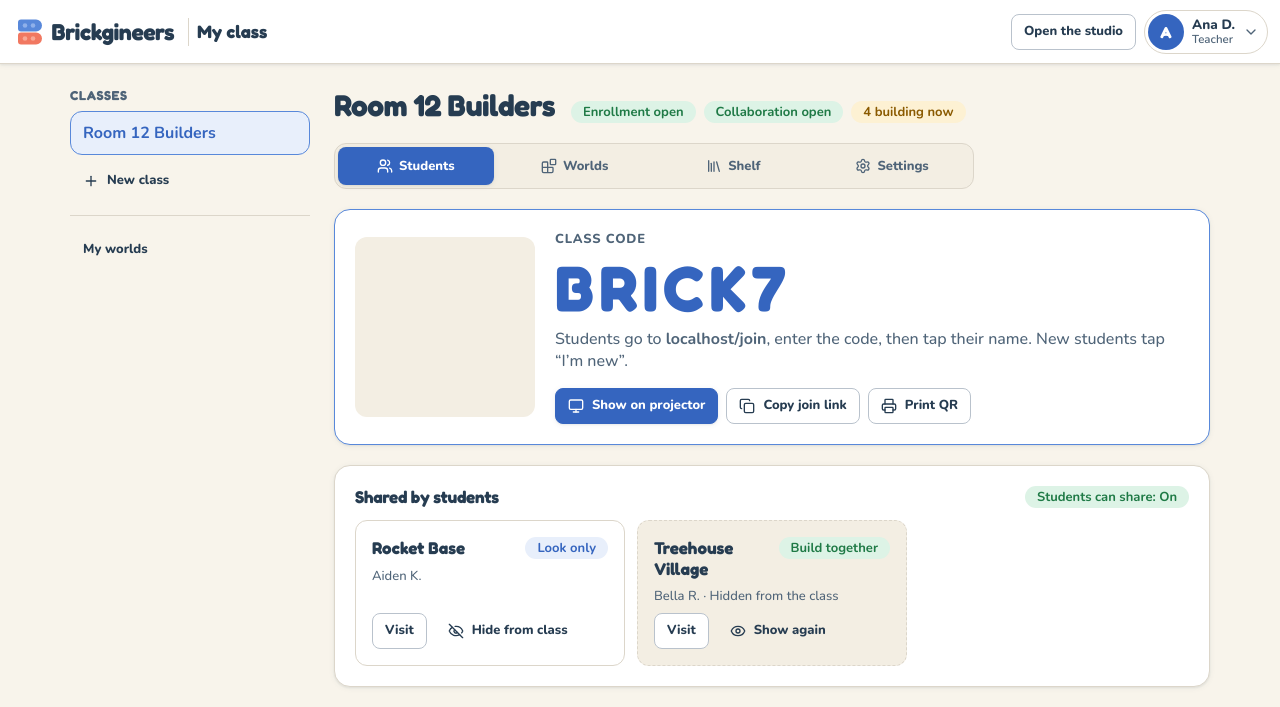
Scenario: opens World controls with checkpoints for a world the teacher started
Step 1. Click the radio button labelled "Worlds" → (575, 166), box [497,147,653,185]
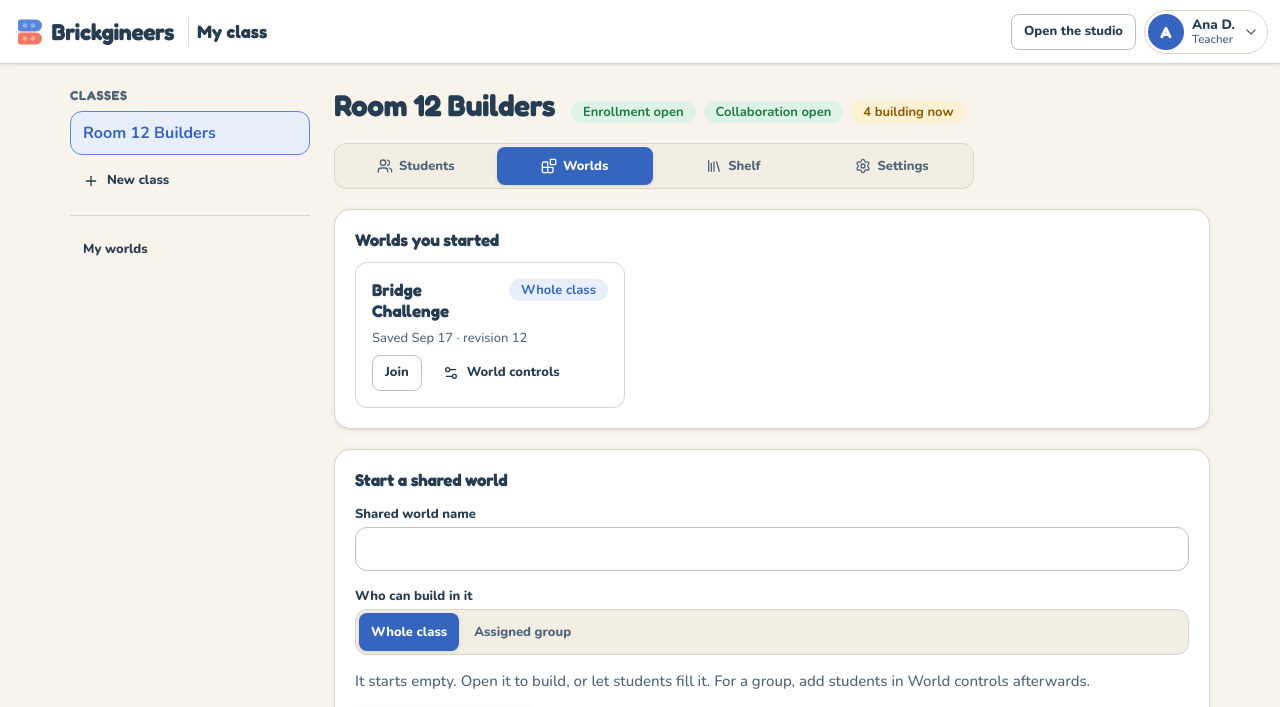
Step 2. Click the button with aria-label "World controls for Bridge Challenge" → (501, 372), box [430,354,573,390]
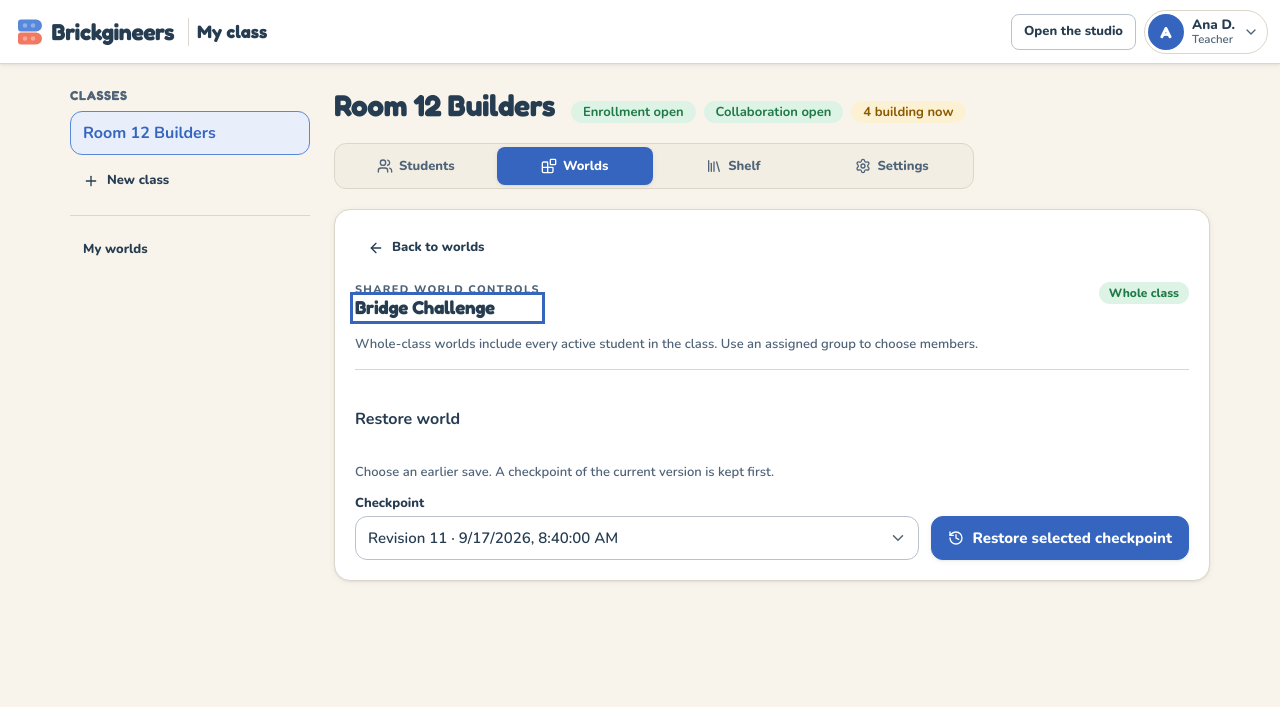
Expected: the heading "Restore world" is shown, [355,408,460,430]
